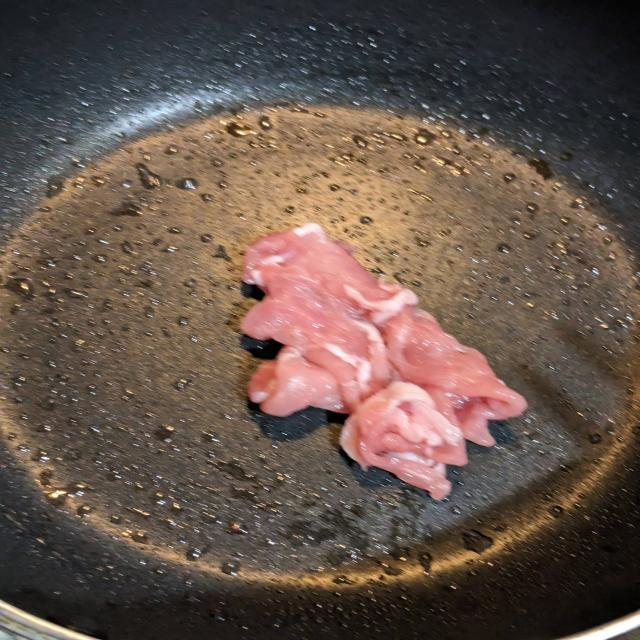NG raw pork,: (229, 212, 544, 509)
